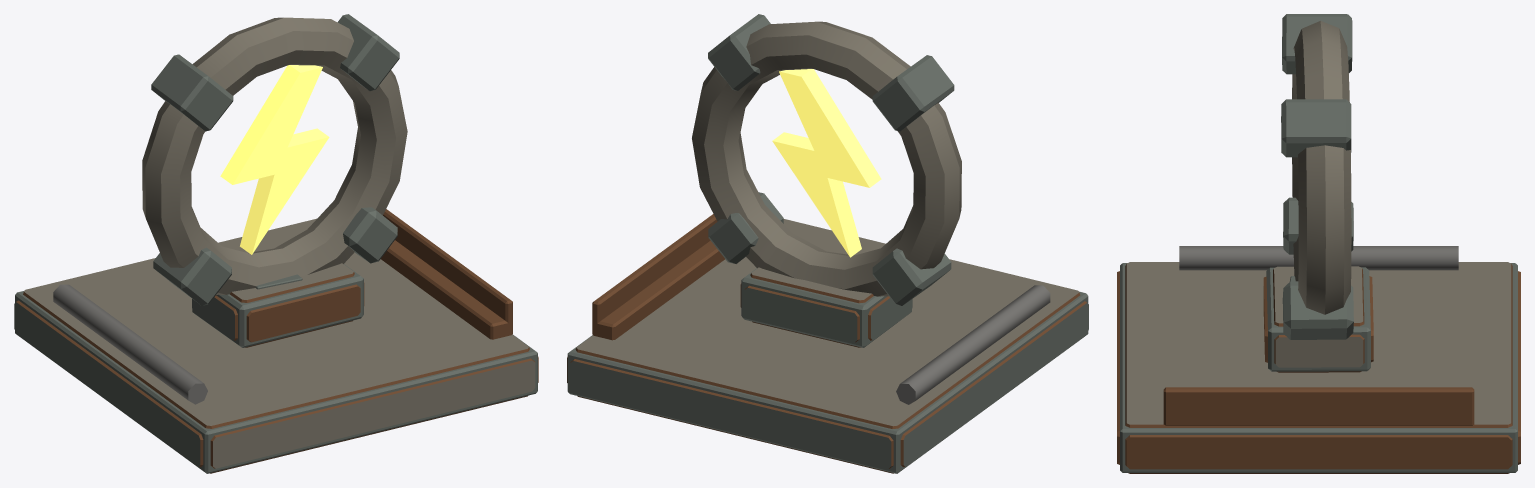
Rendered from R4X_RechargePulse.fbx.
The picture shows the model from 3 angles, left to right: view 1: azimuth 30°, elevation 25°; view 2: azimuth 150°, elevation 25°; view 3: azimuth 270°, elevation 25°; orthographic projection. The views are drawn at different scales.
Visible parts, largest first — view 1: R4X_RechargePulse_Body; view 2: R4X_RechargePulse_Body; view 3: R4X_RechargePulse_Body.
Boxes of the visible parts, x1,y1,x2,y2 form: R4X_RechargePulse_Body: (14, 14, 538, 473); R4X_RechargePulse_Body: (567, 14, 1088, 473); R4X_RechargePulse_Body: (1117, 14, 1520, 473).
Size of the model in its own units: 0.52 by 0.5083 by 0.52.
